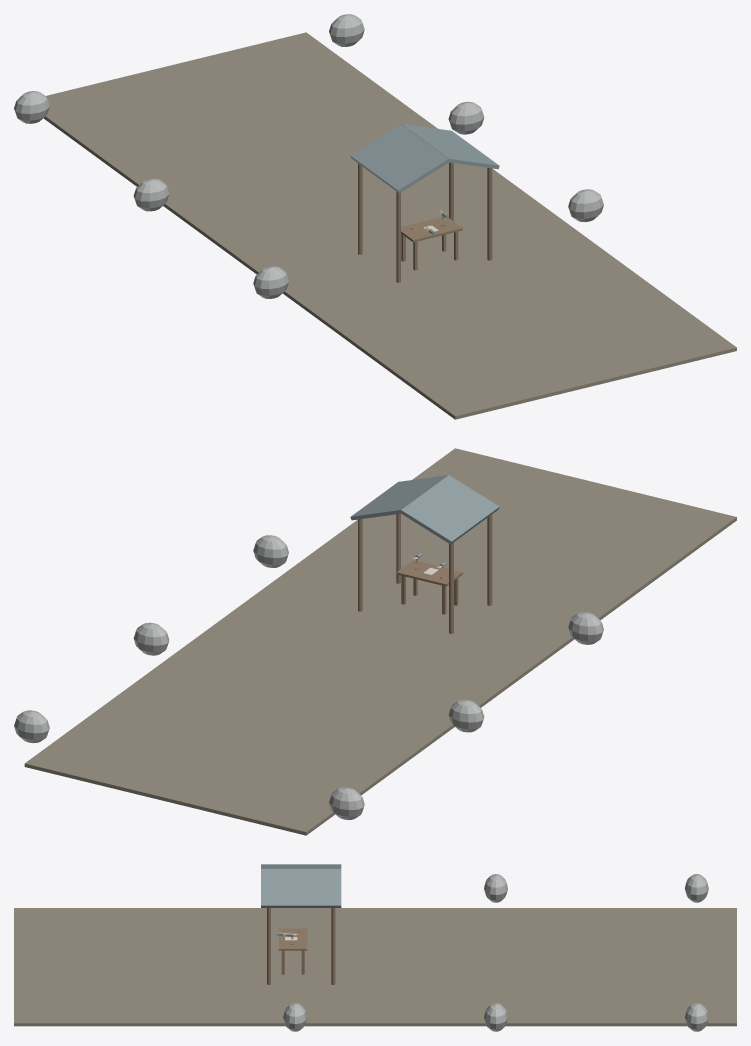
3 renders of one model, top to bottom at view 1: azimuth 30°, elevation 25°; view 2: azimuth 150°, elevation 25°; view 3: azimuth 270°, elevation 25°, orthographic. The views are drawn at different scales.
Parts seen in each view (by area): view 1: roadbed (×6), rock (×6), roof_left, roof_right, tabletop; view 2: roadbed (×6), rock (×6), roof_left, roof_right, tabletop; view 3: roadbed (×6), roof_right, rock (×5), post (×2), tabletop, roof_left.
Part boxes in pixels (<box>): roadbed (×6): <box>43,32,736,419</box>; rock (×6): <box>14,14,603,298</box>; roof_left: <box>350,124,449,193</box>; roof_right: <box>401,124,499,169</box>; tabletop: <box>401,217,462,242</box>; roadbed (×6): <box>24,448,736,835</box>; rock (×6): <box>14,535,603,819</box>; roof_left: <box>400,475,499,544</box>; roof_right: <box>350,475,448,520</box>; tabletop: <box>396,560,462,586</box>; roadbed (×6): <box>14,908,736,1026</box>; roof_right: <box>261,869,341,907</box>; rock (×5): <box>283,874,708,1031</box>; post (×2): <box>267,908,335,984</box>; tabletop: <box>279,928,307,950</box>; roof_left: <box>261,864,341,868</box>.
Size of the model in its own units: 8.4 by 2.74 by 18.
